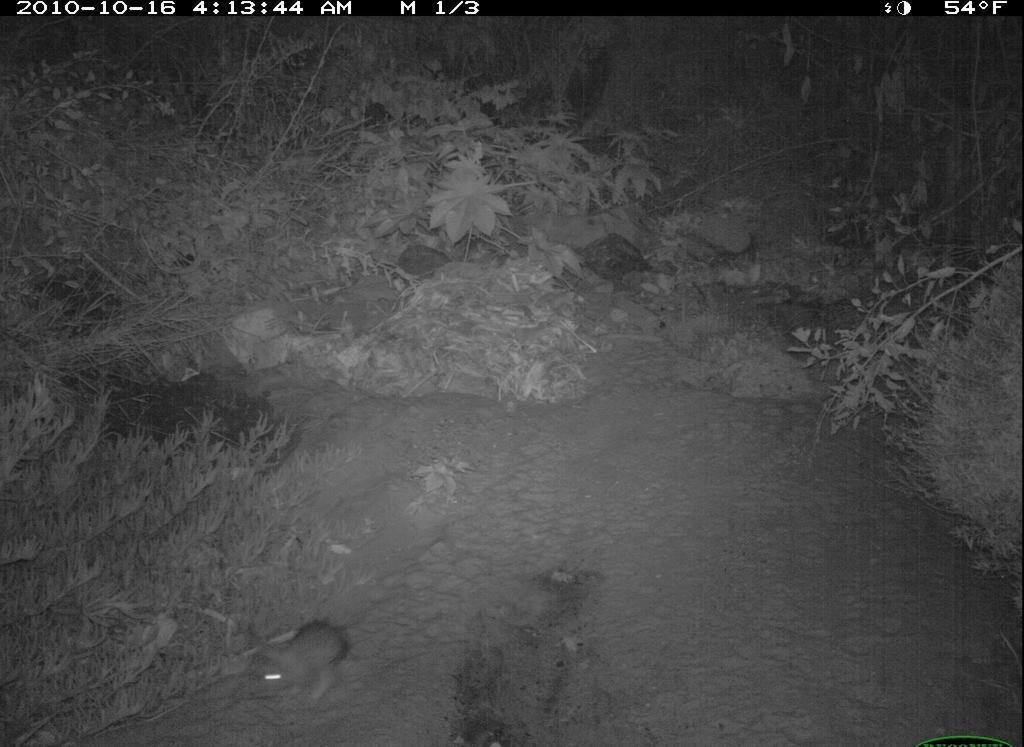rabbit: (235, 609, 361, 715)
